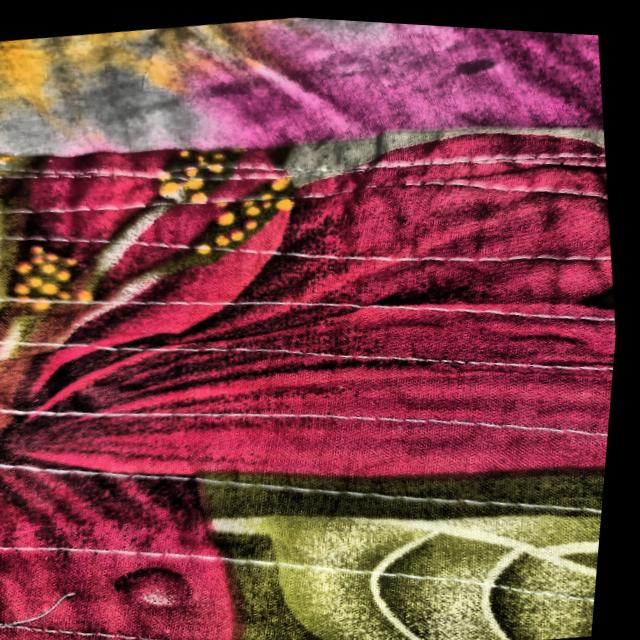Stitch: (0, 573, 114, 640)
